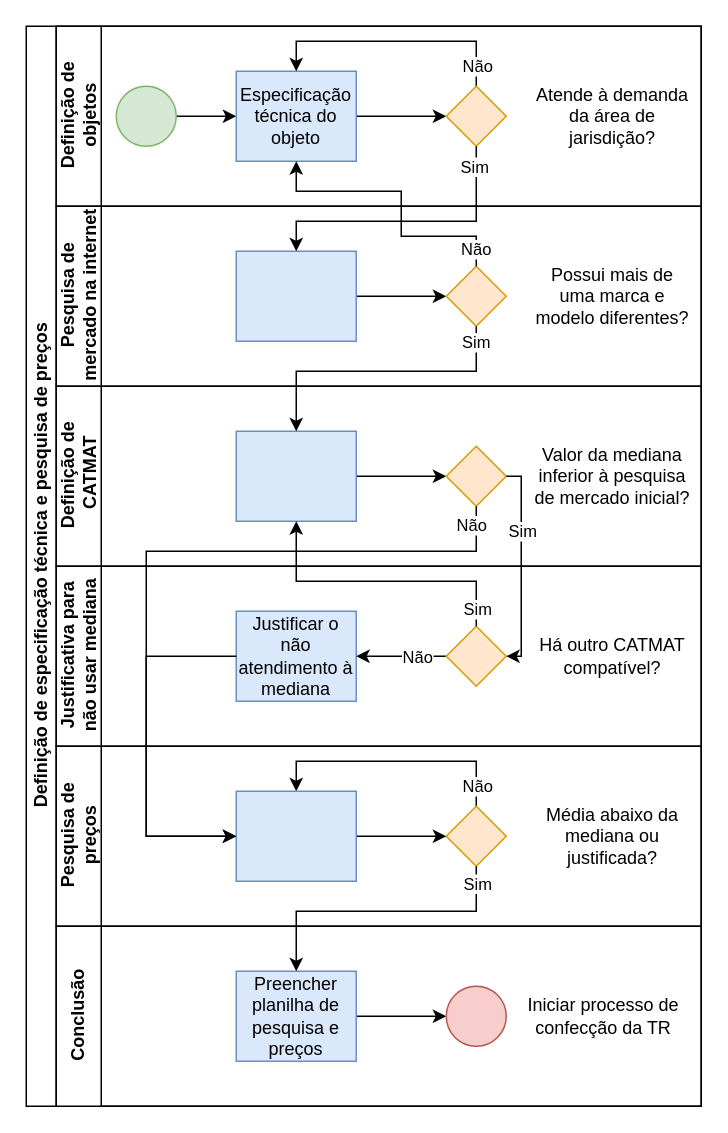
The diagram is 728 pixels wide and 1133 high, and some of its shapes have lost their labels. Here are the shapes that lost their labels. From the top down, the centre of each, then its label:
At point (145, 115): "Start".
At point (295, 295): "Pesquisa de produtos que atendem".
At point (295, 475): "Definir CATMAT".
At point (295, 835): "Pesquisa de preços no painel de preços".
At point (475, 1015): "Fim".
